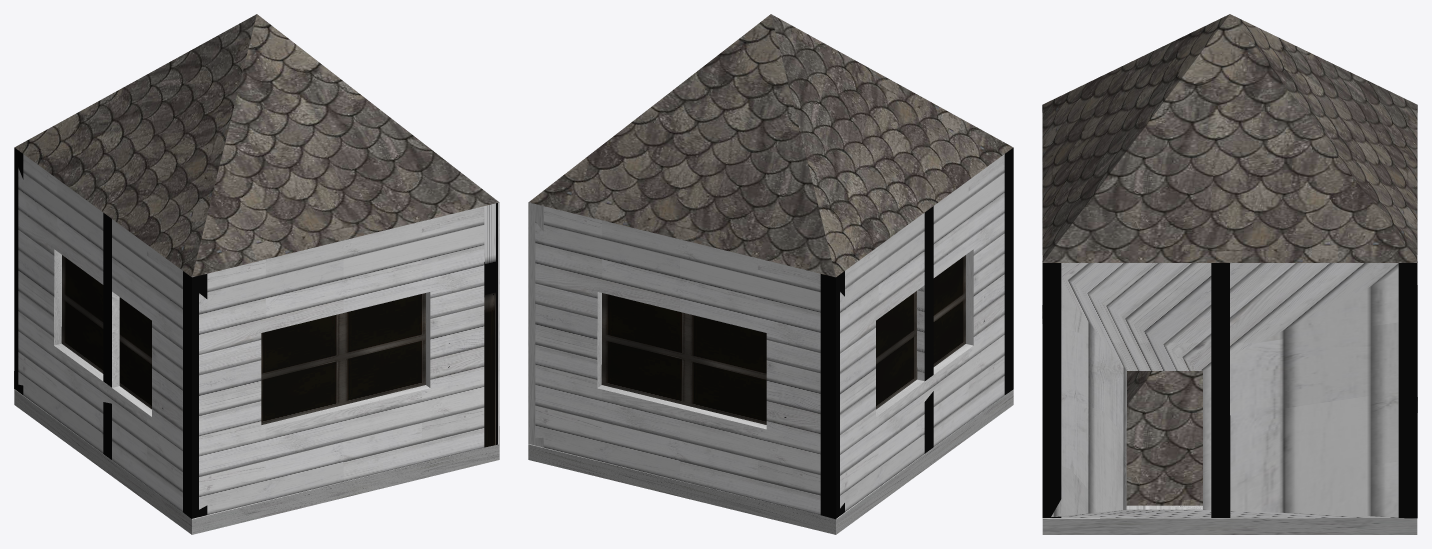
File: TextureHouse.gltf
The picture shows the model from 3 angles, left to right: view 1: azimuth 30°, elevation 25°; view 2: azimuth 150°, elevation 25°; view 3: azimuth 270°, elevation 25°; orthographic projection. The views are drawn at different scales.
Visible parts, largest first — view 1: Wall (×4), Roof, Floor, Door; view 2: Wall (×4), Roof, Floor, Door; view 3: Roof (×2), Door, Wall (×3), Floor.
Boxes of the visible parts, x1,y1,x2,y2 form: Wall (×4): (14,147,484,519); Roof: (14,14,499,277); Floor: (14,390,499,534); Door: (484,202,499,447); Wall (×4): (528,147,1013,519); Roof: (528,14,1013,277); Floor: (528,389,1013,534); Door: (528,202,543,447); Roof (×2): (1042,14,1417,505); Door: (1042,255,1417,518); Wall (×3): (1042,136,1417,518); Floor: (1042,518,1417,534).
Size of the model in its own units: 2 by 2.6 by 2.
Materials: 3 (3 with a texture image).
